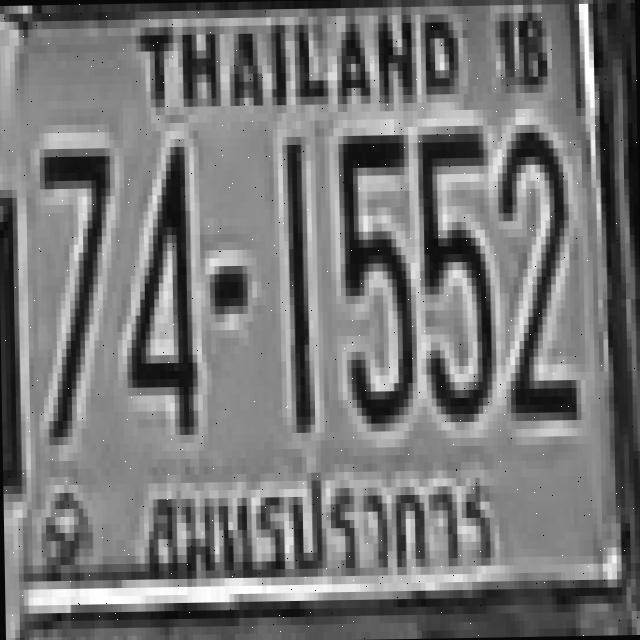1: (284, 132, 308, 428), (0, 185, 17, 497)
2: (496, 124, 572, 413)
4: (118, 138, 194, 428)
5: (332, 126, 412, 424), (414, 125, 490, 414)
7: (36, 140, 112, 437)
SamutPrakan: (132, 449, 508, 588)
